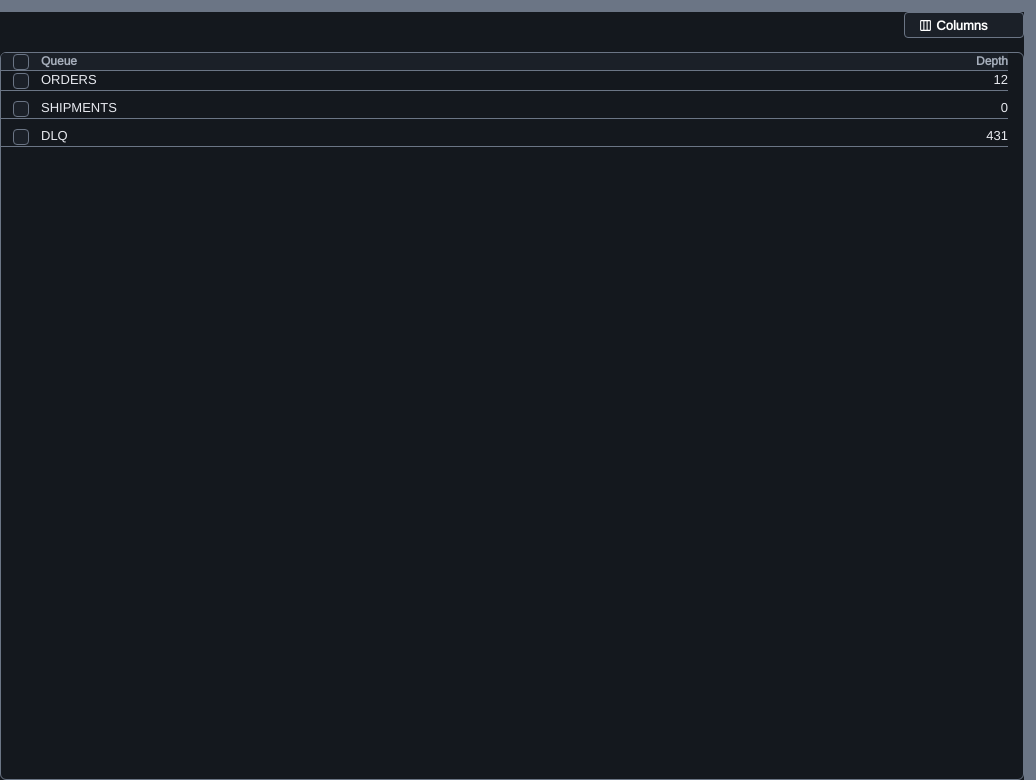
Test: DataTable › selection › marks the header box indeterminate for a partial page, and checked for a full one
Expected: the checkbox named "select all on this page" is not checked, [13,54,29,70]
Click the checkbox named "Select row ORDERS". click: (21, 81)
box: [13,73,29,89]
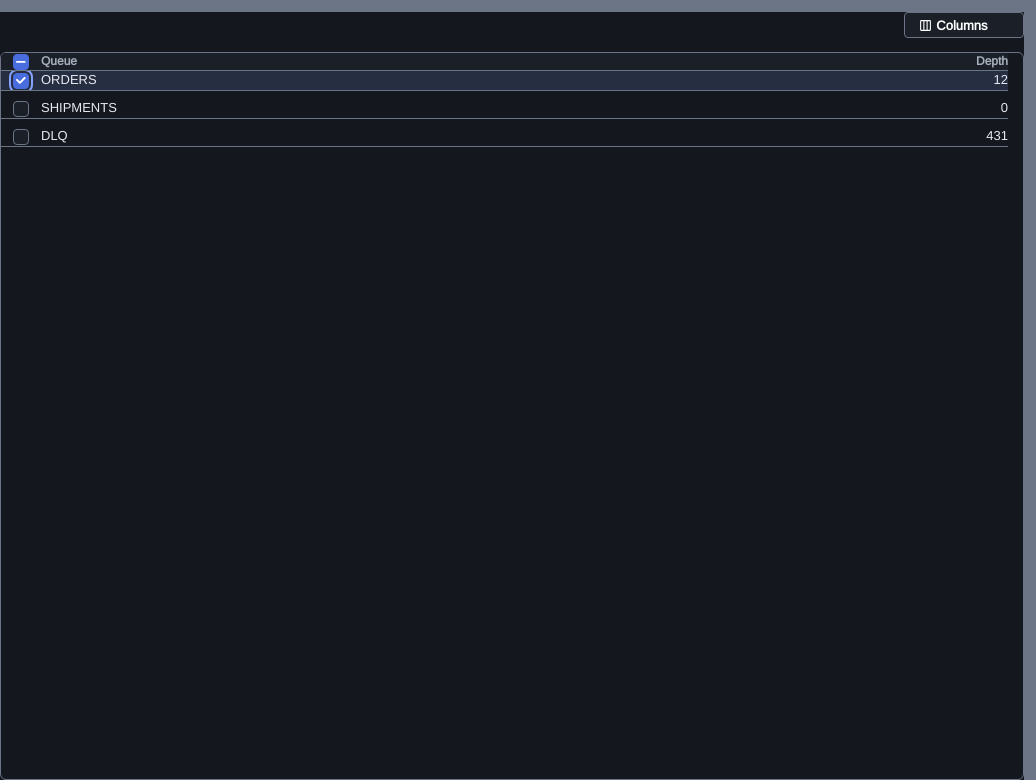
Expected: the checkbox named "select all on this page" is not checked, [13,54,29,70]
Expected: the checkbox named "select all on this page" has attribute data-indeterminate="true", [13,54,29,70]
Click the checkbox named "Select row SHIPMENTS". click: (21, 109)
box: [13,101,29,117]
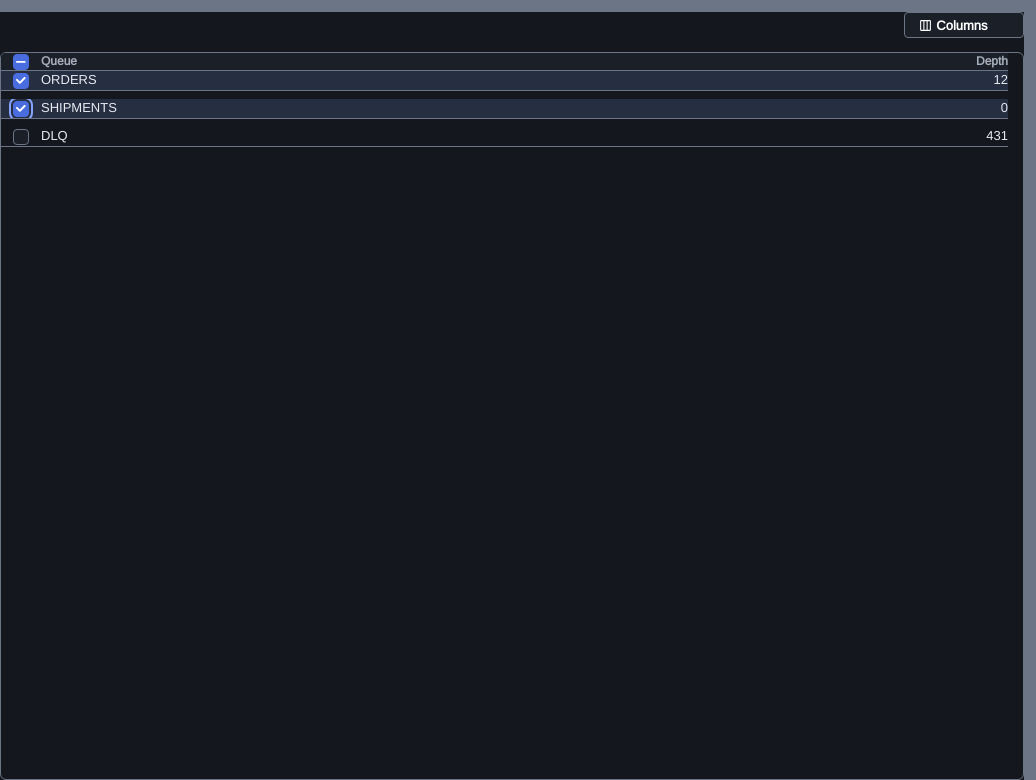
Click the checkbox named "Select row DLQ". click: (21, 137)
box: [13,129,29,145]
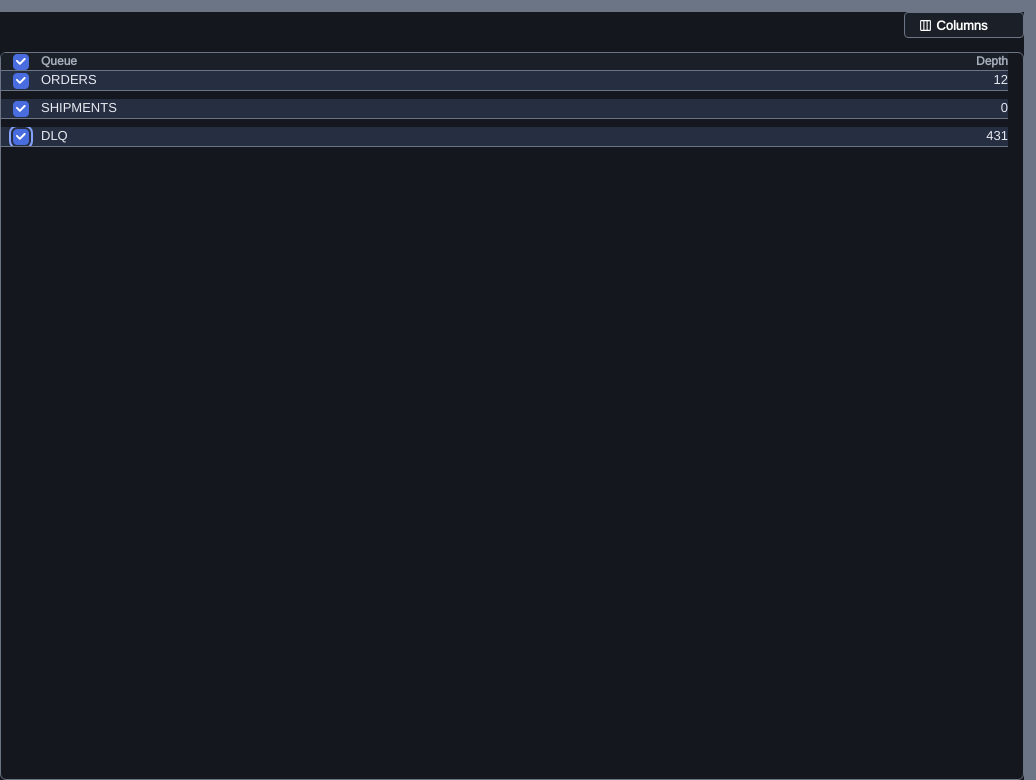
Expected: the checkbox named "select all on this page" is checked, [13,54,29,70]
